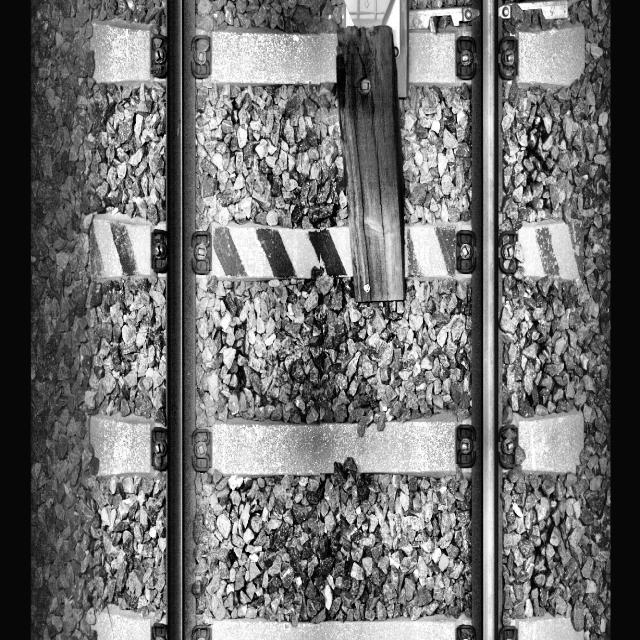Clips: (188, 34, 214, 79), (454, 423, 478, 470), (453, 36, 478, 80), (455, 227, 477, 277), (190, 230, 212, 274), (148, 228, 169, 273), (497, 229, 518, 272), (148, 32, 168, 76), (498, 36, 518, 80), (500, 422, 518, 470), (191, 428, 210, 472), (151, 425, 168, 472), (454, 623, 479, 640), (192, 623, 212, 640), (150, 624, 169, 640), (502, 625, 518, 640)
Sleepers: (91, 205, 589, 299), (83, 404, 590, 486), (84, 17, 589, 92), (92, 601, 595, 640)
